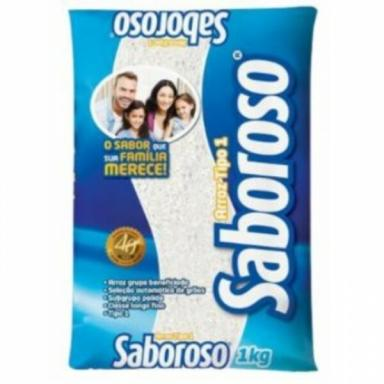rice package: (71, 8, 315, 370)
